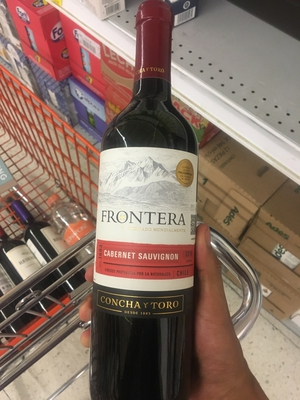frontera cabernet sauvignon: (94, 16, 202, 400)
